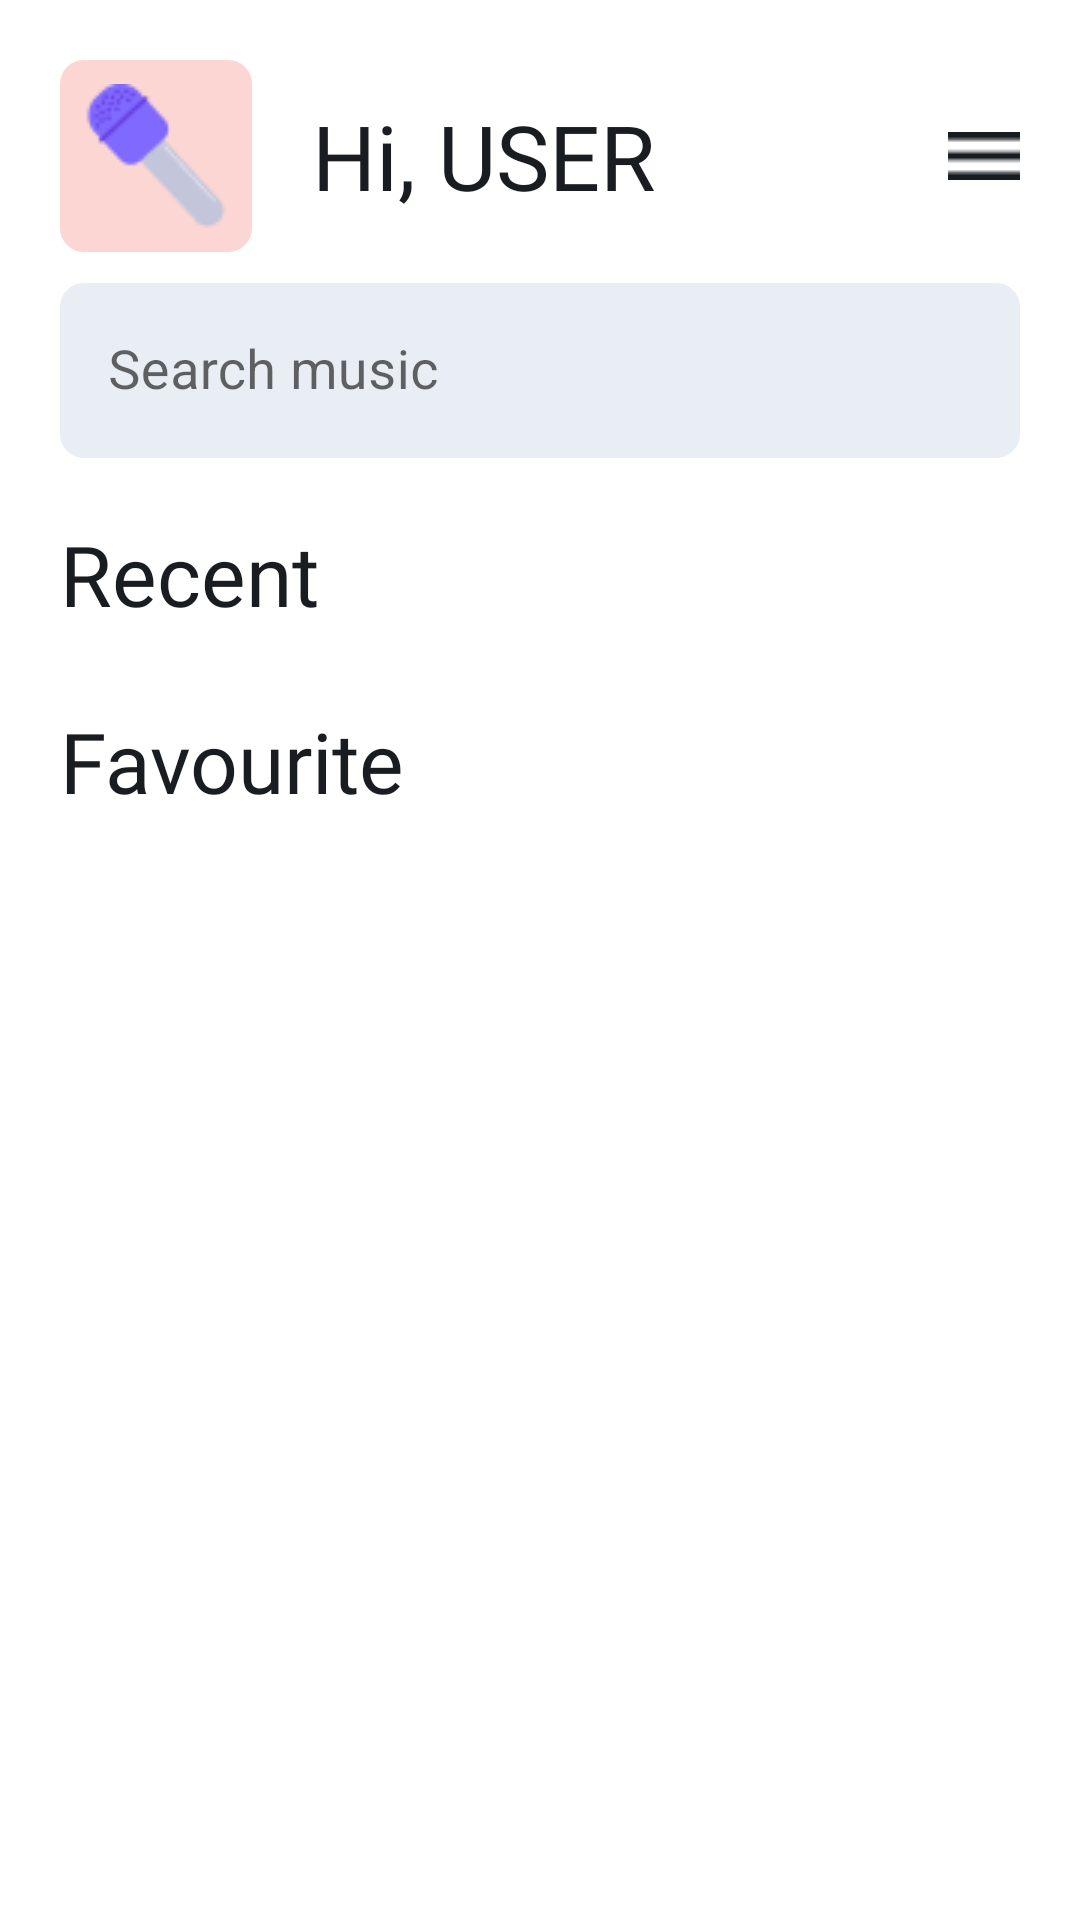

Screen size 1080*1920. Icon name, then its box in pixels as (x1, y1, x2, y2):
Menu settings: (948, 132, 1020, 180)
Micro: (87, 84, 224, 226)
